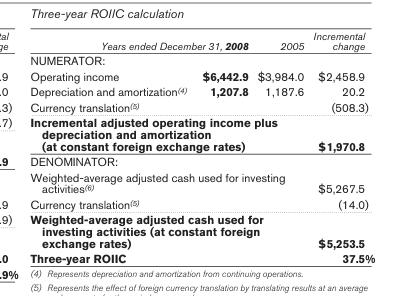table: (29, 28, 374, 264)
table column: (29, 28, 193, 264), (307, 28, 374, 264), (193, 28, 252, 264), (252, 28, 307, 264)
table column header: (29, 28, 374, 52)
table projected row header: (29, 52, 374, 67), (29, 153, 374, 168)
table row: (29, 114, 374, 153), (29, 211, 374, 250), (29, 168, 374, 195), (29, 28, 374, 52), (29, 67, 374, 83), (29, 98, 374, 114), (29, 195, 374, 211), (29, 52, 374, 67), (29, 83, 374, 98), (29, 153, 374, 168), (29, 250, 374, 264)
table spanning cell: (29, 114, 307, 153), (29, 211, 307, 250), (29, 168, 307, 195), (29, 28, 252, 52)
